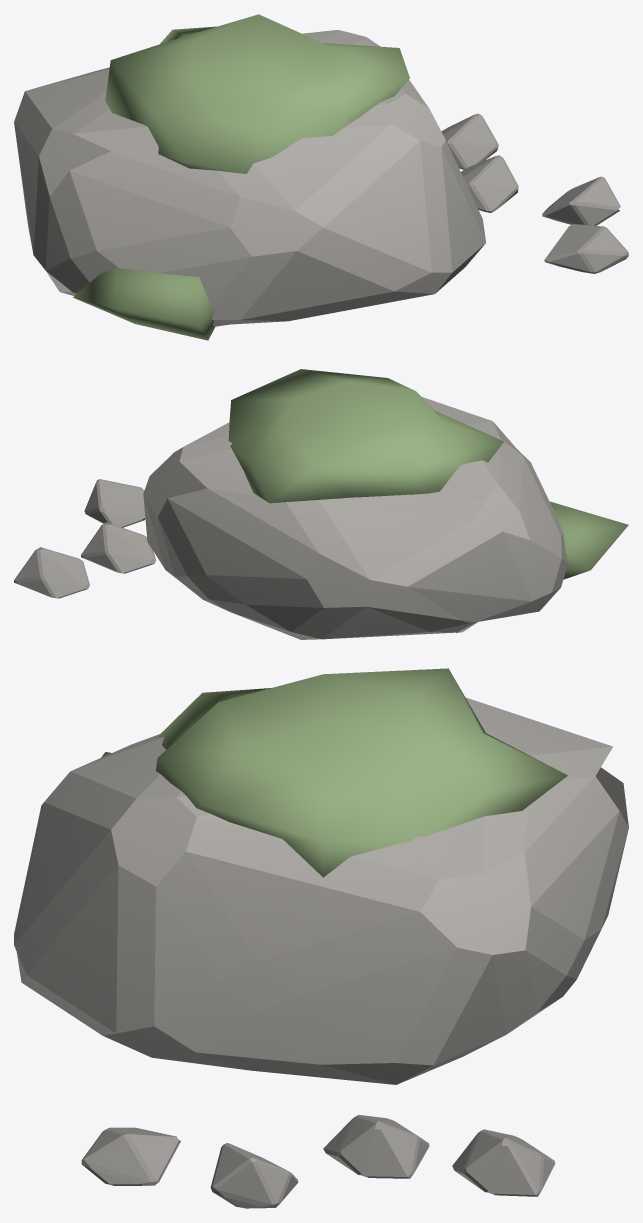
Rendered from fels_4.glb.
3 views of the same model, one above another, from view 1: azimuth 30°, elevation 25°; view 2: azimuth 150°, elevation 25°; view 3: azimuth 270°, elevation 25° (orthographic). The views are drawn at different scales.
Visible parts, largest first — view 1: G_fels_4; view 2: G_fels_4; view 3: G_fels_4.
Part boxes in pixels (x1=…): G_fels_4: x1=14, y1=14, x2=628, y2=340; G_fels_4: x1=14, y1=369, x2=628, y2=639; G_fels_4: x1=14, y1=668, x2=628, y2=1208.
Bounding box in the file's own units: 3 × 1.11 × 2.18.
